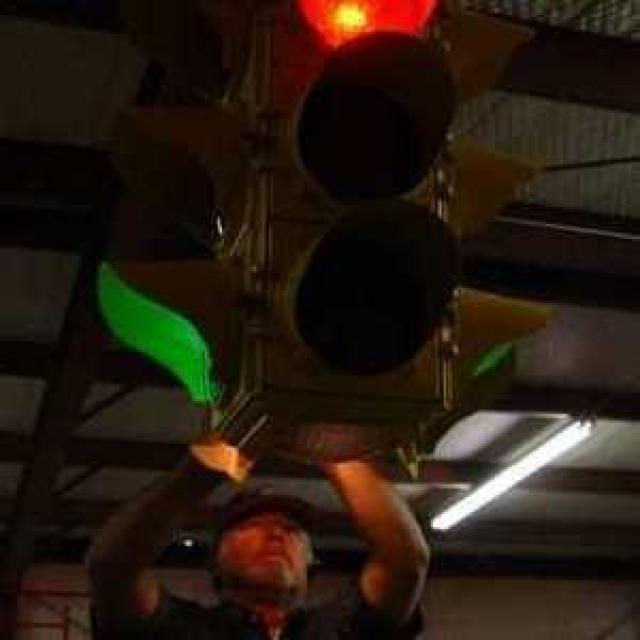Traffic Light -Green-: (78, 0, 266, 423)
Traffic Light -Red-: (280, 0, 473, 425)
